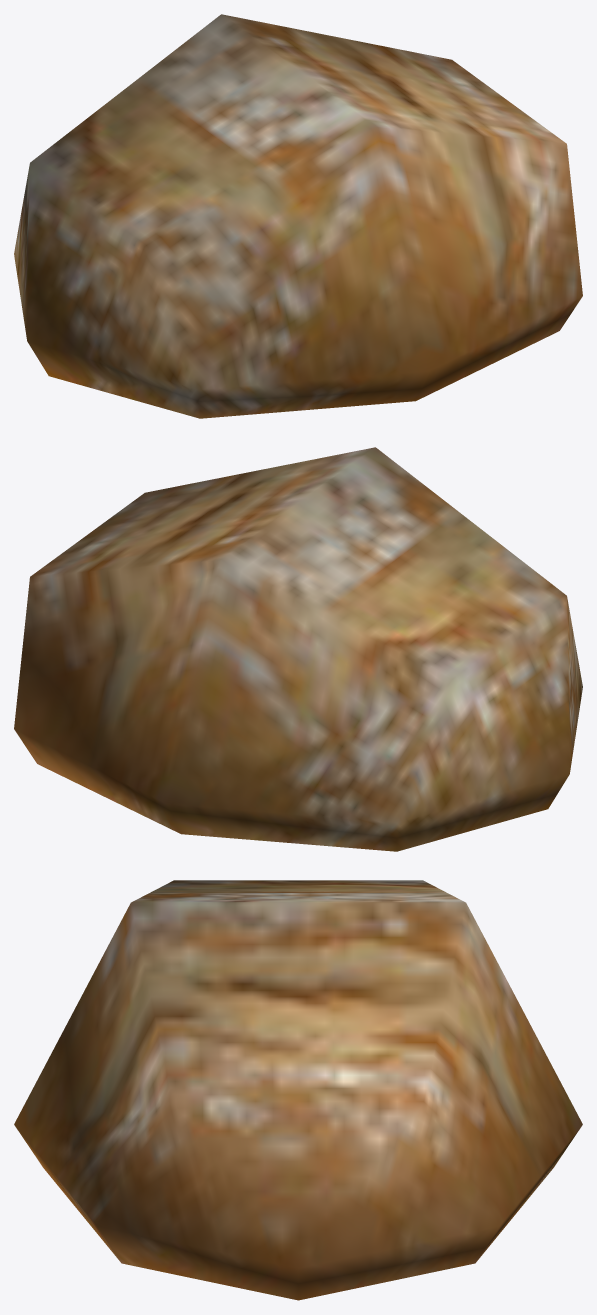
The model's file is food-bread01.glb.
3 renders of one model, top to bottom at view 1: azimuth 30°, elevation 25°; view 2: azimuth 150°, elevation 25°; view 3: azimuth 270°, elevation 25°, orthographic. The views are drawn at different scales.
Parts seen in each view (by area): view 1: food-bread01; view 2: food-bread01; view 3: food-bread01.
Part boxes in pixels (x1,y1,x2,y2): food-bread01: (14, 14, 582, 418); food-bread01: (14, 447, 582, 851); food-bread01: (14, 880, 582, 1300).
Size of the model in its own units: 0.1928 by 0.083 by 0.1612.
1 material, 1 textured.
